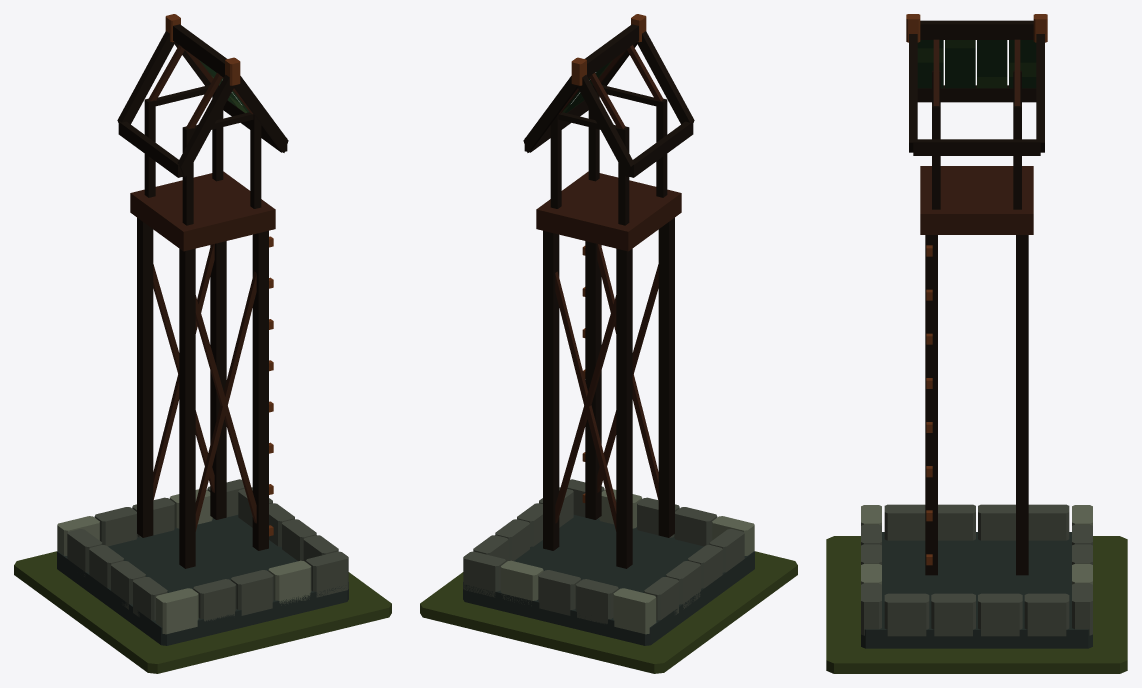
The model's file is tower_t3.glb.
3 views of the same model, side by side, from view 1: azimuth 30°, elevation 25°; view 2: azimuth 150°, elevation 25°; view 3: azimuth 270°, elevation 25° (orthographic). The views are drawn at different scales.
Visible parts, largest first — view 1: MMR | tower | T03 Architecture.001, MMR | tower | Tier 03 Ground.001, MMR | tower | T03 Roof Supports.001; view 2: MMR | tower | T03 Architecture.001, MMR | tower | Tier 03 Ground.001, MMR | tower | T03 Roof Supports.001; view 3: MMR | tower | T03 Architecture.001, MMR | tower | Tier 03 Ground.001, MMR | tower | T03 Roof Supports.001.
Boxes of the visible parts, x1=… form: MMR | tower | T03 Architecture.001: x1=57, y1=14, x2=348, y2=645; MMR | tower | Tier 03 Ground.001: x1=14, y1=551, x2=391, y2=673; MMR | tower | T03 Roof Supports.001: x1=144, y1=45, x2=261, y2=225; MMR | tower | T03 Architecture.001: x1=463, y1=14, x2=754, y2=645; MMR | tower | Tier 03 Ground.001: x1=420, y1=551, x2=797, y2=673; MMR | tower | T03 Roof Supports.001: x1=550, y1=45, x2=667, y2=225; MMR | tower | T03 Architecture.001: x1=861, y1=14, x2=1092, y2=648; MMR | tower | Tier 03 Ground.001: x1=826, y1=536, x2=1127, y2=673; MMR | tower | T03 Roof Supports.001: x1=932, y1=39, x2=1021, y2=209.
Bounding box in the file's own units: 1.3 × 2.83 × 1.3.
1 material, 1 textured.
